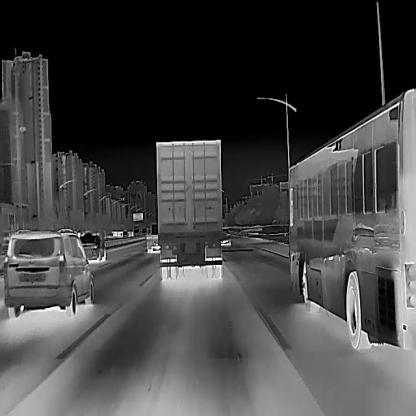car: (279, 89, 415, 352), (156, 139, 222, 280), (5, 228, 94, 317), (78, 230, 107, 261), (146, 222, 160, 253), (219, 225, 232, 248)
